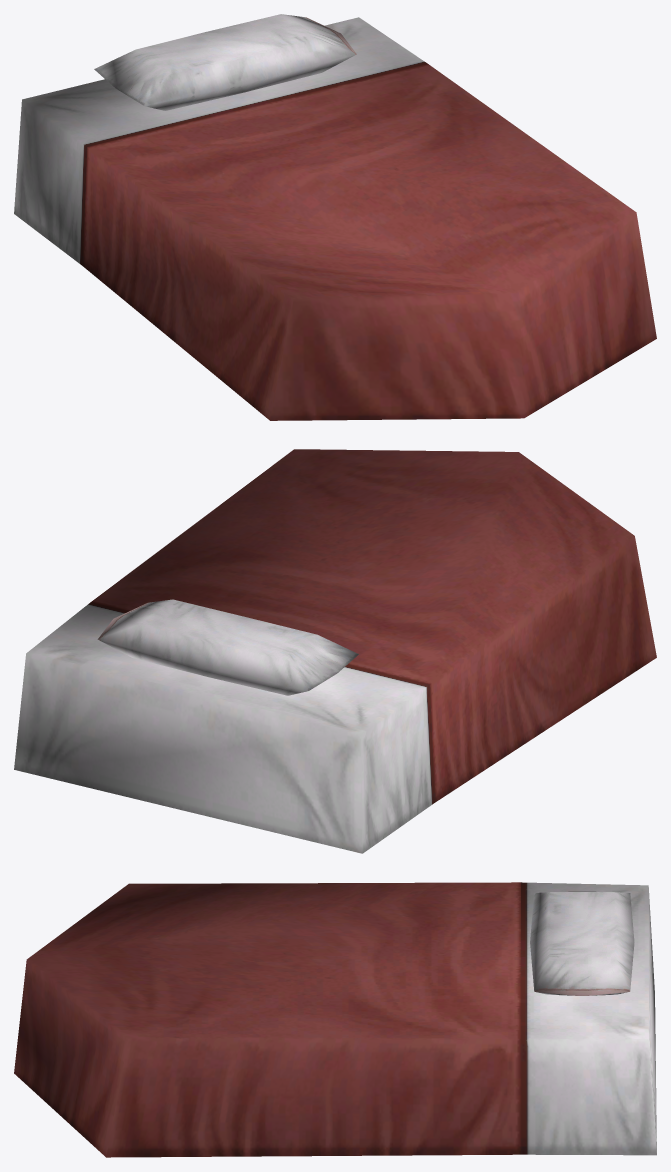
Rendered from frn_all_bed_sm_s1_l2.fbx.
3 renders of one model, top to bottom at view 1: azimuth 30°, elevation 25°; view 2: azimuth 150°, elevation 25°; view 3: azimuth 270°, elevation 25°, orthographic. The views are drawn at different scales.
Parts seen in each view (by area): view 1: mesh_node; view 2: mesh_node; view 3: mesh_node.
Boxes of the visible parts, x1,y1,x2,y2 form: mesh_node: (14, 14, 656, 420); mesh_node: (14, 449, 656, 853); mesh_node: (14, 882, 656, 1157).
Bounding box in the file's own units: 1.27 × 0.5023 × 1.98.
